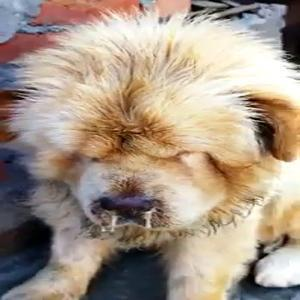nasal_discharge: (94, 193, 162, 235)
